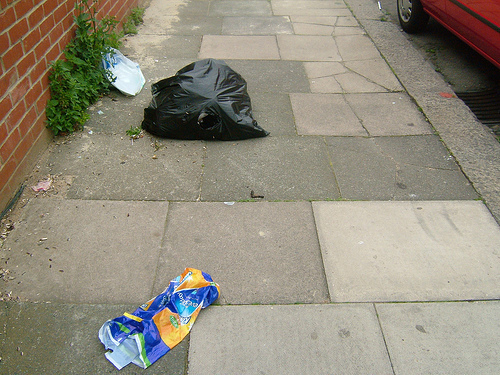litter: (97, 265, 222, 369), (144, 57, 269, 140), (99, 45, 146, 97)
